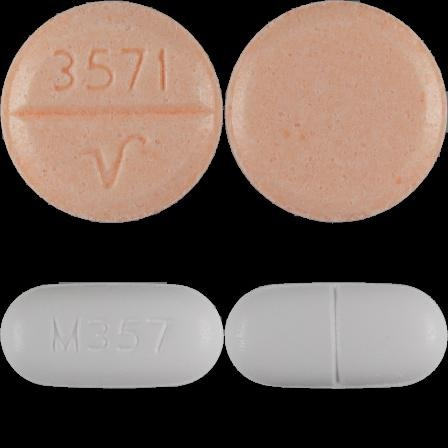76237-176: (0, 0, 224, 224)
